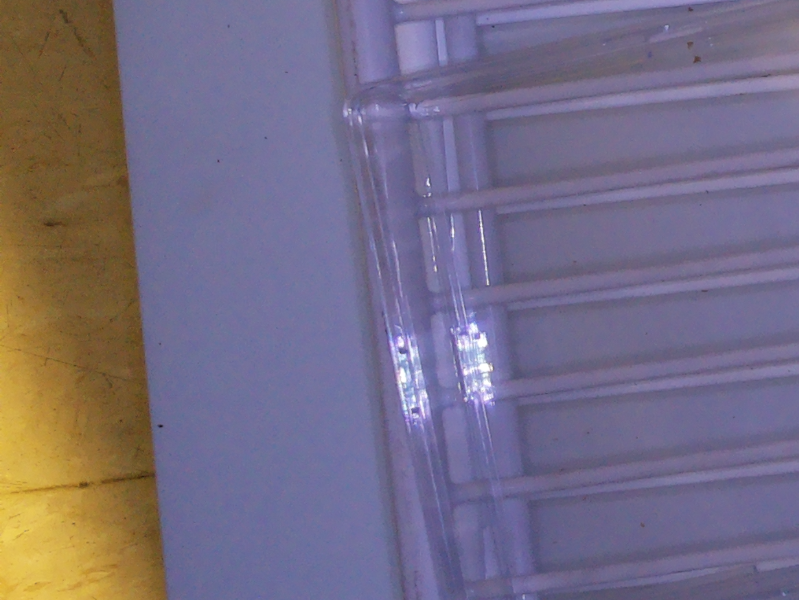plate: (343, 4, 799, 600)
